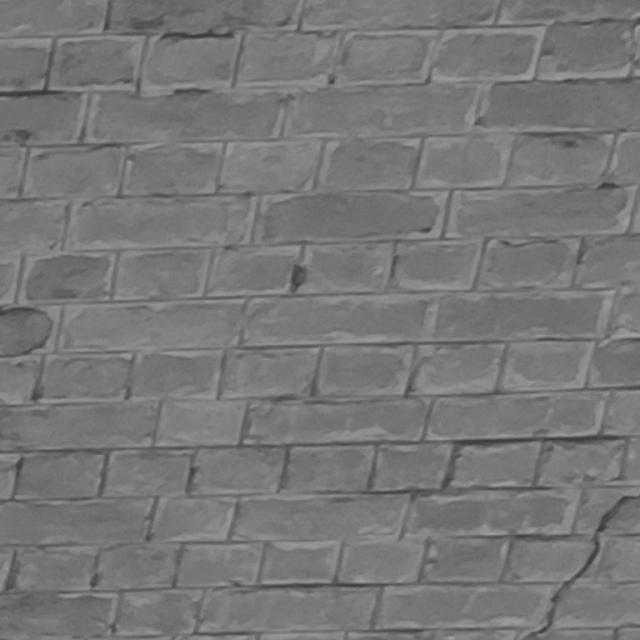crack: (524, 495, 640, 640)
